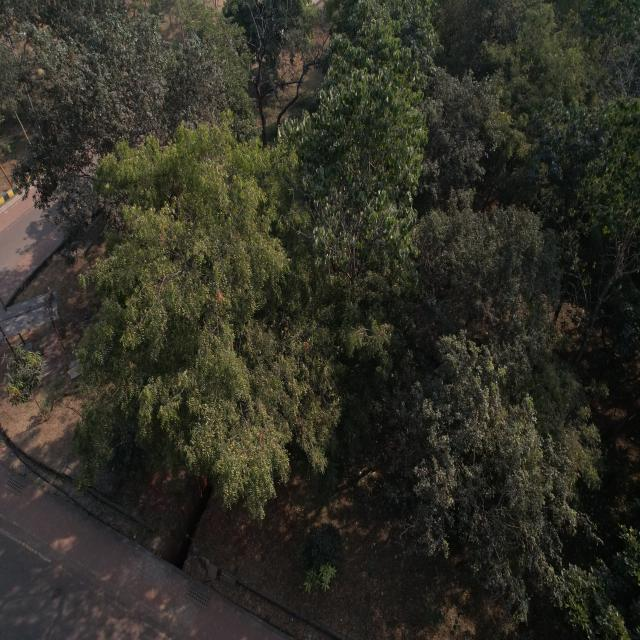Neem-Tree: (74, 122, 323, 510)
